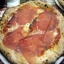pepperoni: (20, 31, 55, 54), (15, 5, 37, 25), (35, 11, 58, 30), (3, 33, 23, 49)
pizza: (2, 3, 63, 61)
